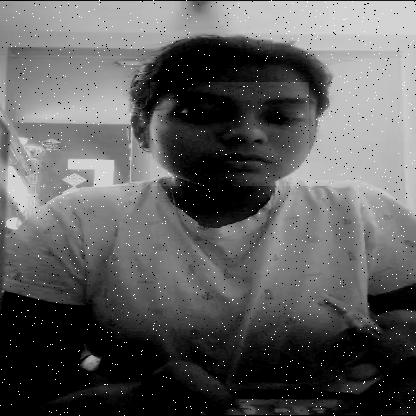Normal: (150, 82, 309, 186)
